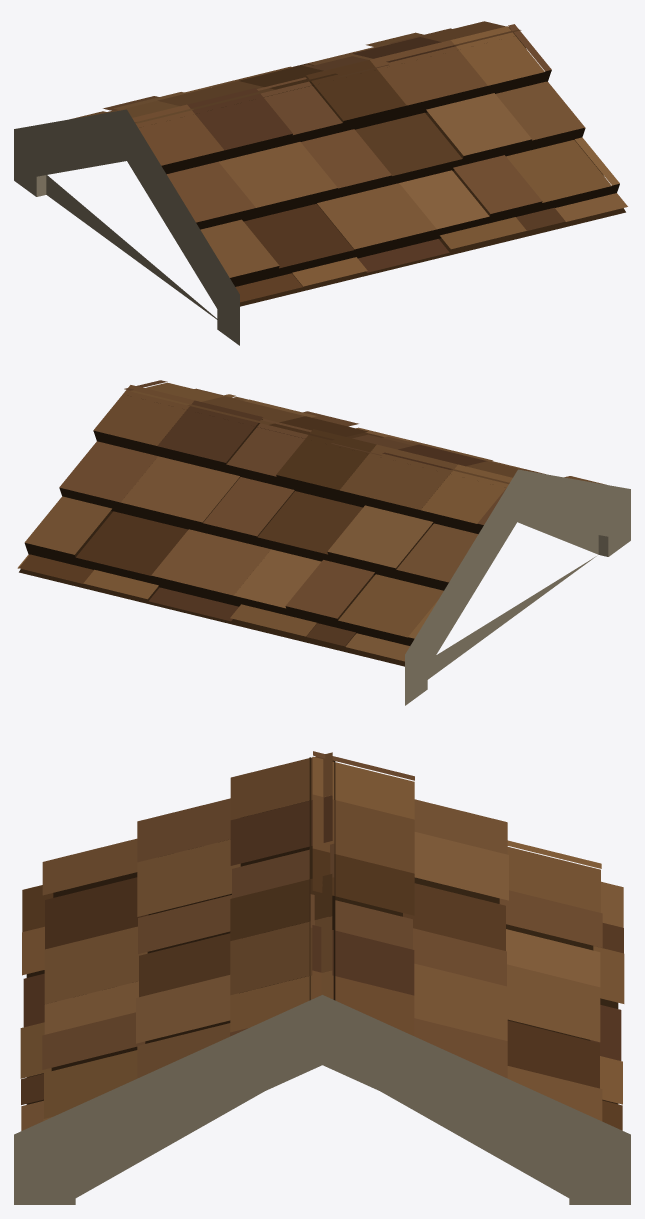
The model's file is roof-gable-top-wood.glb.
3 views of the same model, one above another, from view 1: azimuth 30°, elevation 25°; view 2: azimuth 150°, elevation 25°; view 3: azimuth 270°, elevation 25° (orthographic). The views are drawn at different scales.
Parts seen in each view (by area): view 1: roof-gable-top-wood; view 2: roof-gable-top-wood; view 3: roof-gable-top-wood.
Part boxes in pixels (left/top/right/bottom): roof-gable-top-wood: left=14, top=21, right=627, bottom=345; roof-gable-top-wood: left=17, top=380, right=630, bottom=705; roof-gable-top-wood: left=14, top=751, right=630, bottom=1204.
Size of the model in its own units: 1 by 0.3759 by 1.
